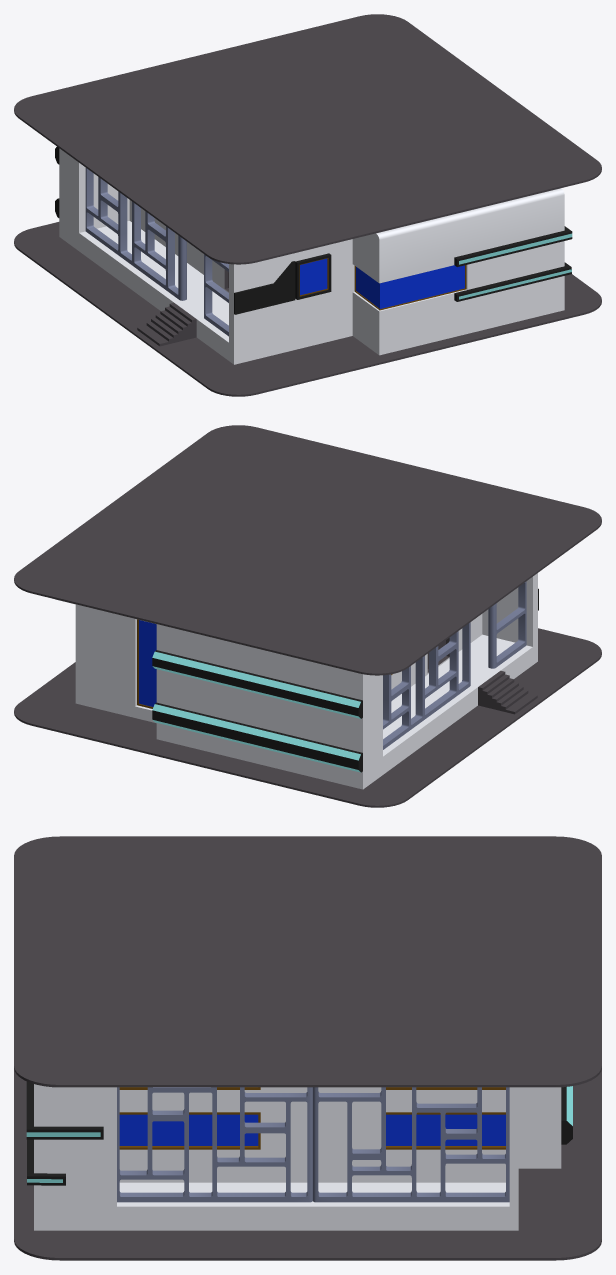
The model's file is SM_B_Mauro1_base.fbx.
3 views of the same model, one above another, from view 1: azimuth 30°, elevation 25°; view 2: azimuth 150°, elevation 25°; view 3: azimuth 270°, elevation 25° (orthographic). The views are drawn at different scales.
Parts seen in each view (by area): view 1: SM_B_Mauro1_base; view 2: SM_B_Mauro1_base; view 3: SM_B_Mauro1_base.
Boxes of the visible parts, x1=… form: SM_B_Mauro1_base: x1=14, y1=14, x2=601, y2=396; SM_B_Mauro1_base: x1=14, y1=425, x2=601, y2=807; SM_B_Mauro1_base: x1=14, y1=836, x2=601, y2=1260.
Bounding box in the file's own units: 2100 × 692 × 2100.
